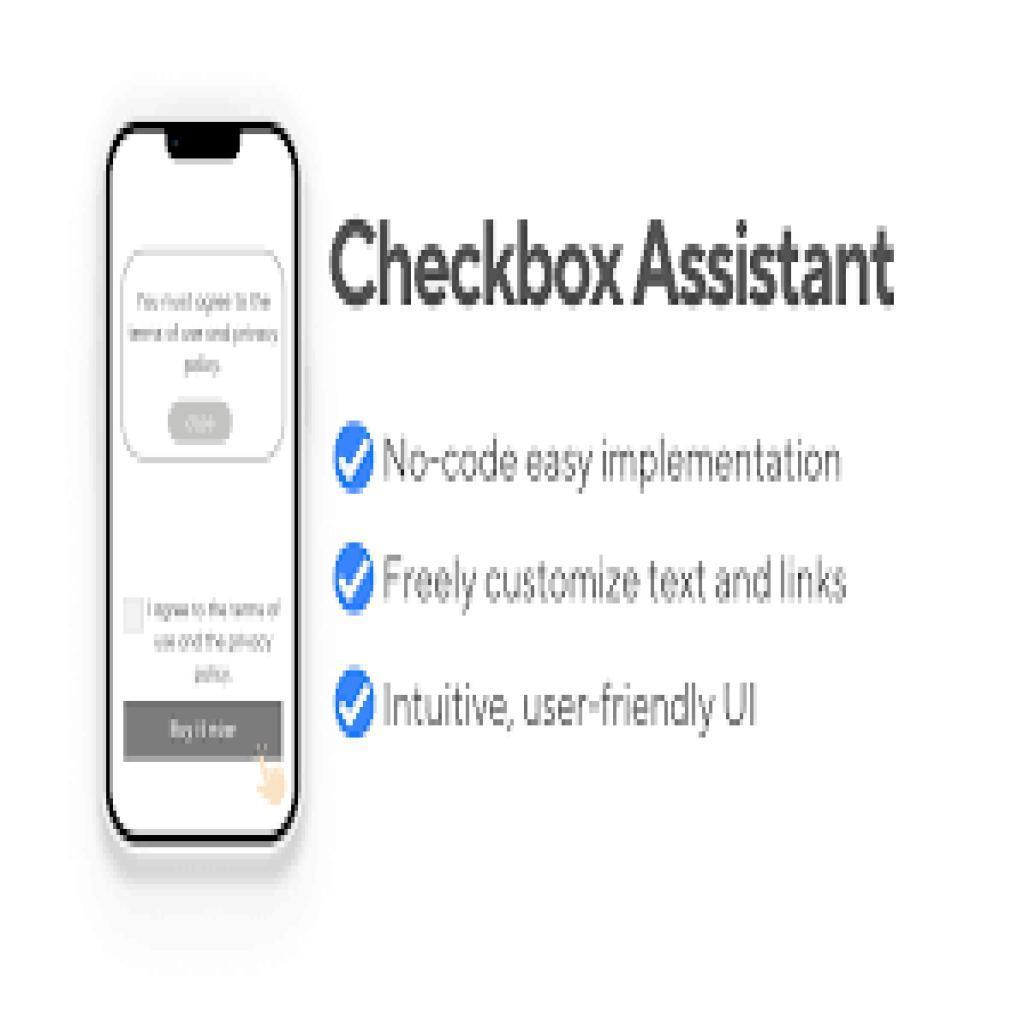checkbox: (329, 663, 382, 742), (331, 538, 380, 621), (332, 420, 378, 493)
